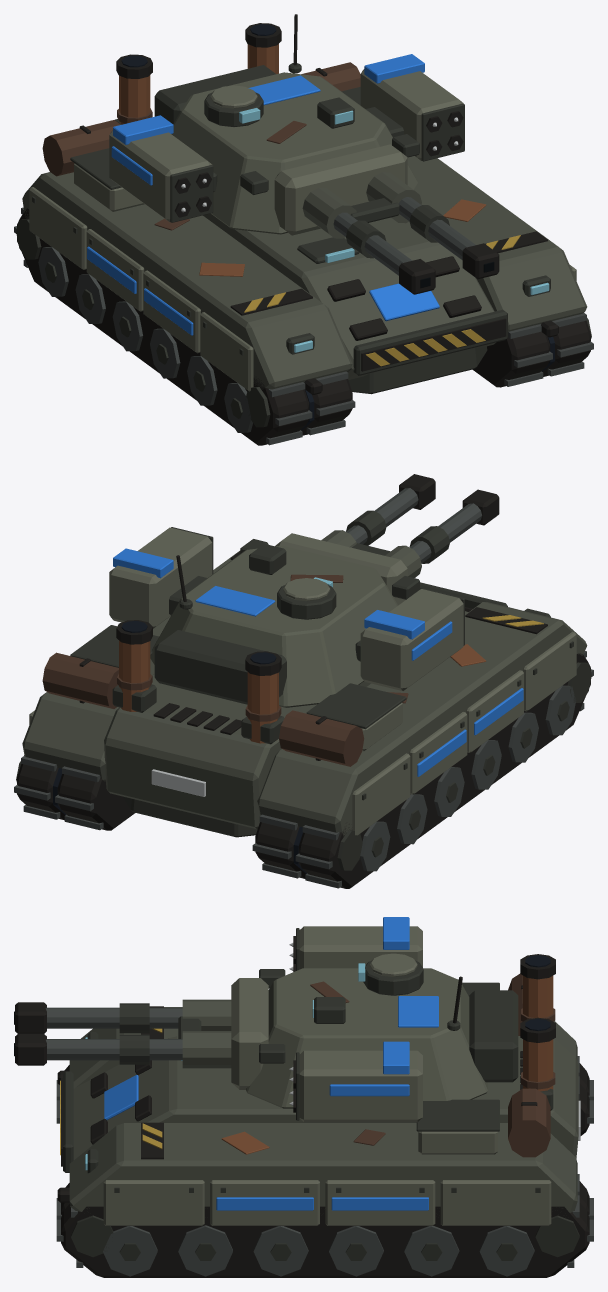
File: h_mammoth.glb
3 views of the same model, one above another, from view 1: azimuth 30°, elevation 25°; view 2: azimuth 150°, elevation 25°; view 3: azimuth 270°, elevation 25° (orthographic).
Parts seen in each view (by area): view 1: Chassis, Turret armor, Twin cannon; view 2: Chassis, Turret armor, Twin cannon; view 3: Chassis, Turret armor, Twin cannon.
Part boxes in pixels (x1,y1,x2,y2): Chassis: [14, 23, 593, 445]; Turret armor: [109, 14, 464, 235]; Twin cannon: [302, 172, 499, 294]; Chassis: [14, 550, 593, 888]; Turret armor: [109, 527, 464, 707]; Twin cannon: [321, 474, 499, 577]; Chassis: [56, 954, 593, 1277]; Turret armor: [231, 917, 518, 1122]; Twin cannon: [14, 999, 231, 1068].
Size of the model in its own units: 4.39 by 3.15 by 6.54.
